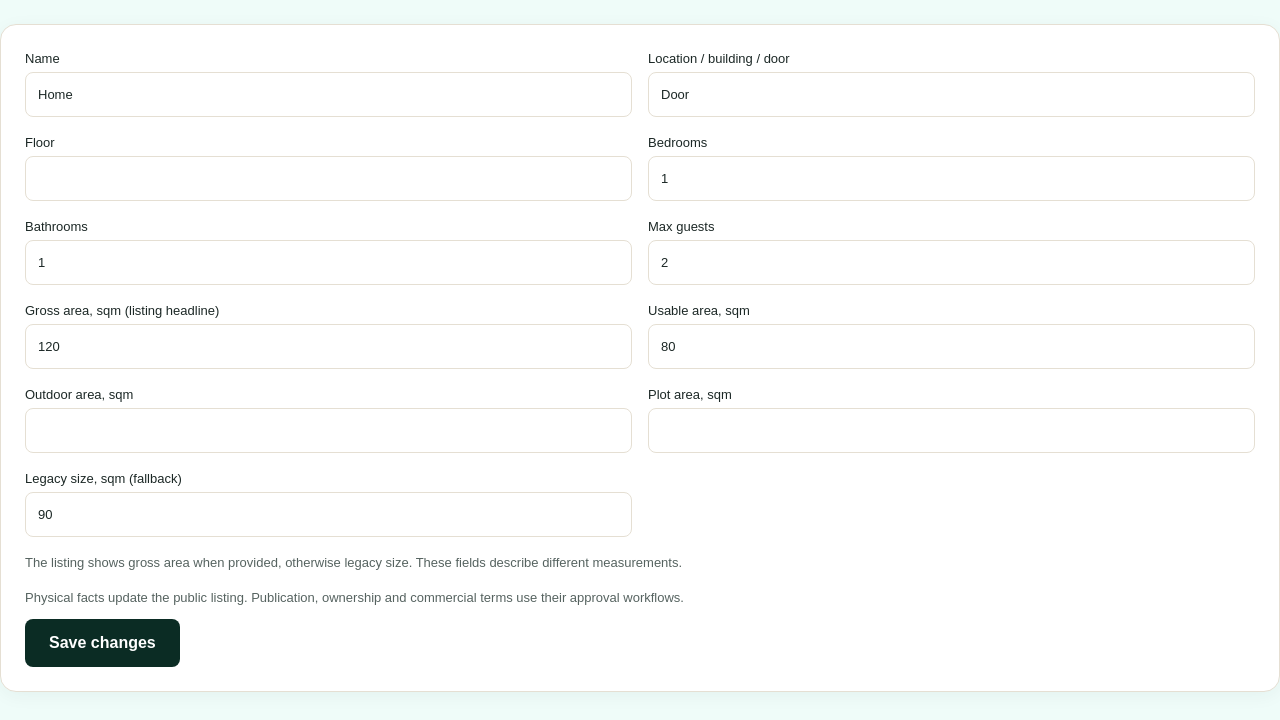
Scenario: property edit recovery › keeps edits typed during a save dirty after submitted values commit
The width and height of the screenshot is (1280, 720).
Replace the text in the field labelled "Name" with "Submitted" at (328, 94), box [25,72,632,117]
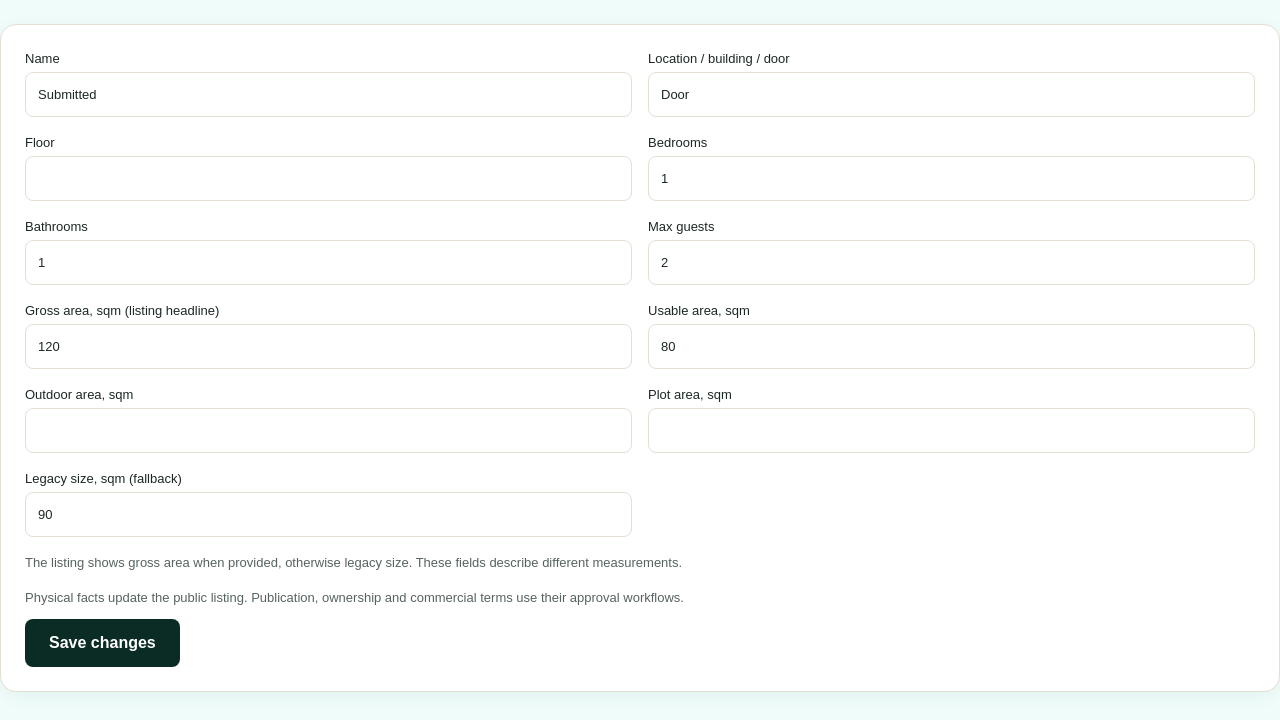
Submit the form named "Save changes"
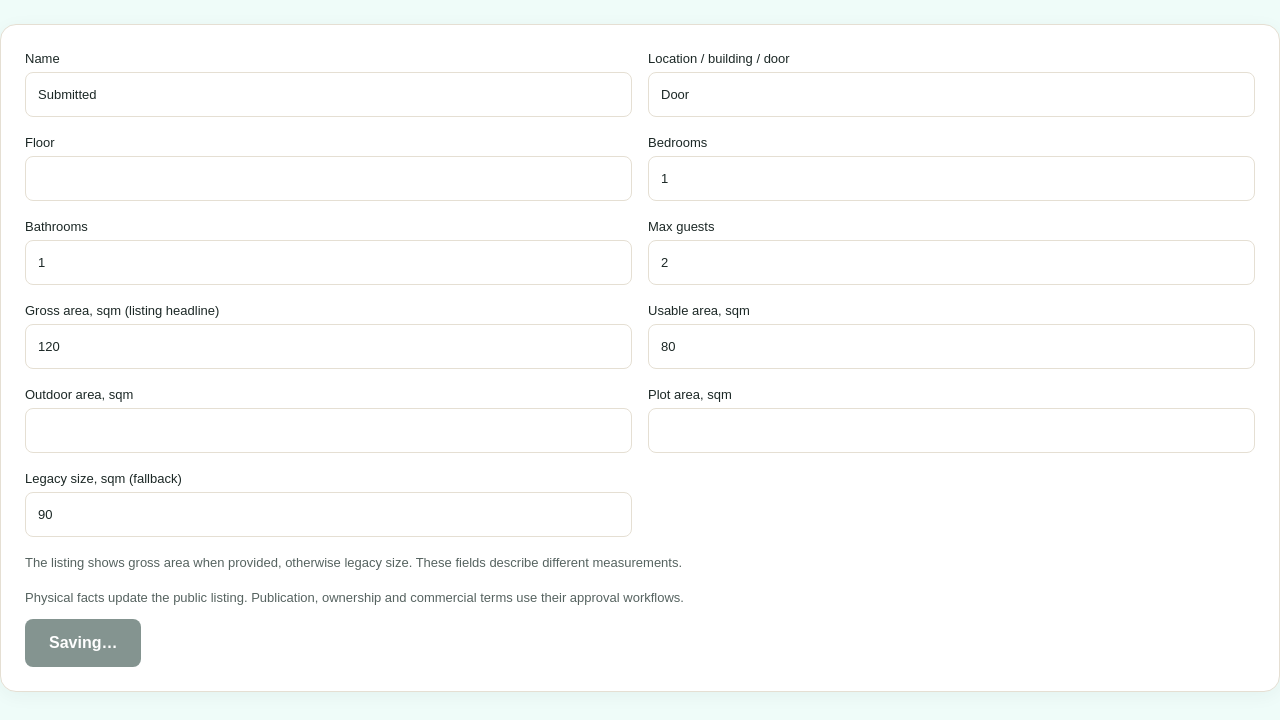
Replace the text in the field labelled "Name" with "Newer unsaved text" at (328, 94), box [25,72,632,117]
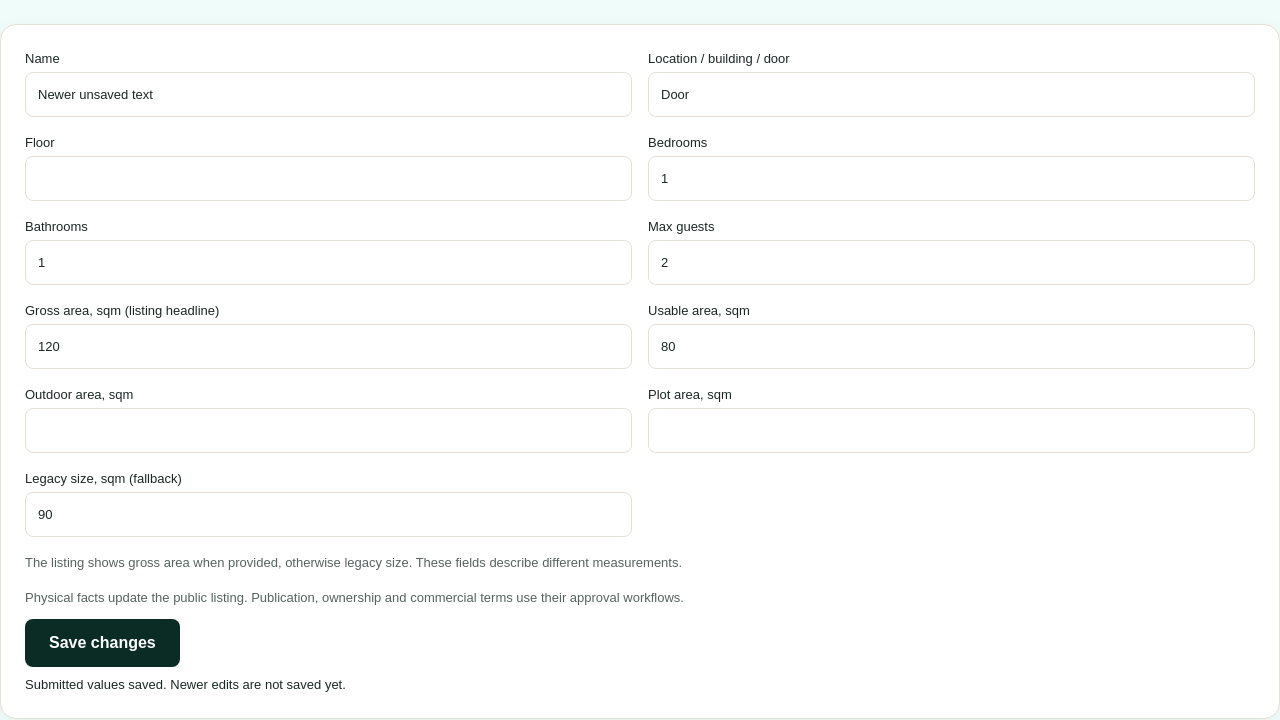
Expected: the message shows "Newer edits are not saved yet", [25,677,346,692]
